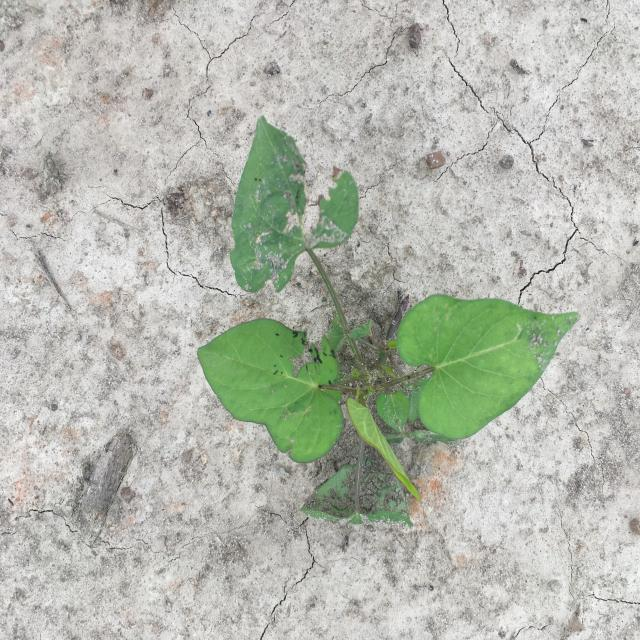MorningGlory: (196, 114, 581, 529)
